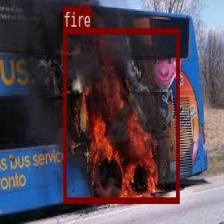fire: (62, 28, 179, 202)
